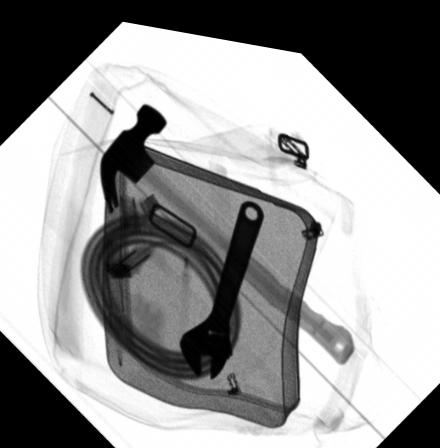Hammer: (97, 95, 354, 351)
Wrench: (177, 190, 263, 370)
